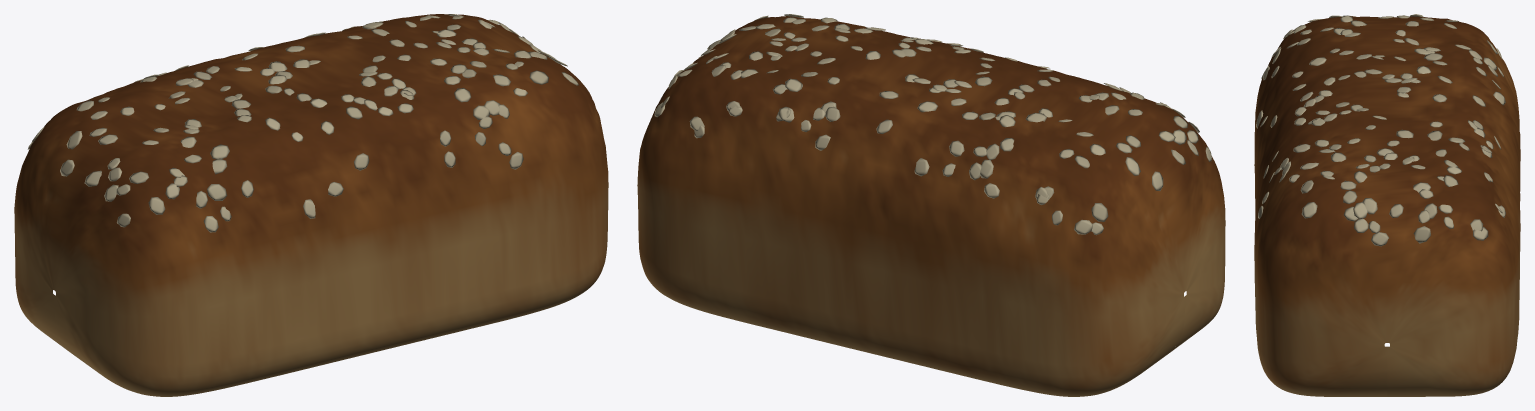
Rendered from haferflocken-750g.glb.
3 views of the same model, side by side, from view 1: azimuth 30°, elevation 25°; view 2: azimuth 150°, elevation 25°; view 3: azimuth 270°, elevation 25° (orthographic). The views are drawn at different scales.
Parts seen in each view (by area): view 1: haferflocken-750g; view 2: haferflocken-750g; view 3: haferflocken-750g.
Part boxes in pixels (bbox=[...]): haferflocken-750g: bbox=[14, 14, 608, 396]; haferflocken-750g: bbox=[637, 14, 1225, 396]; haferflocken-750g: bbox=[1254, 14, 1520, 396].
Bounding box in the file's own units: 0.2289 × 0.104 × 0.1145.
